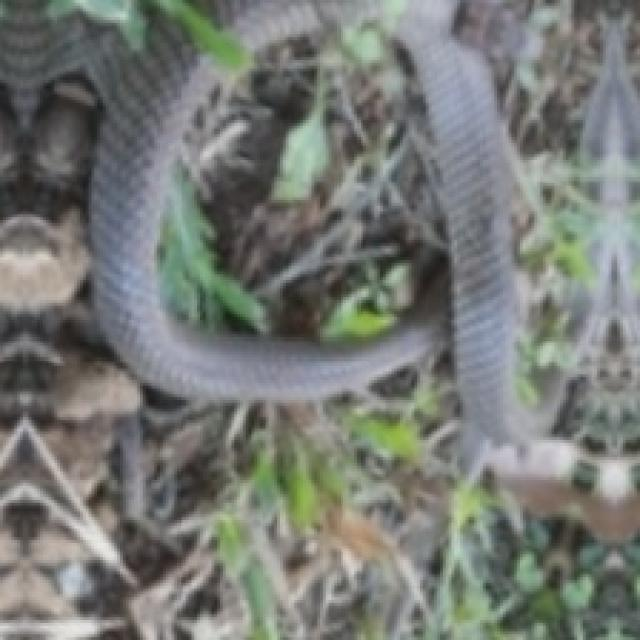paradise tree snake: (391, 0, 637, 543), (86, 43, 446, 400), (91, 57, 443, 397), (394, 0, 526, 443)
